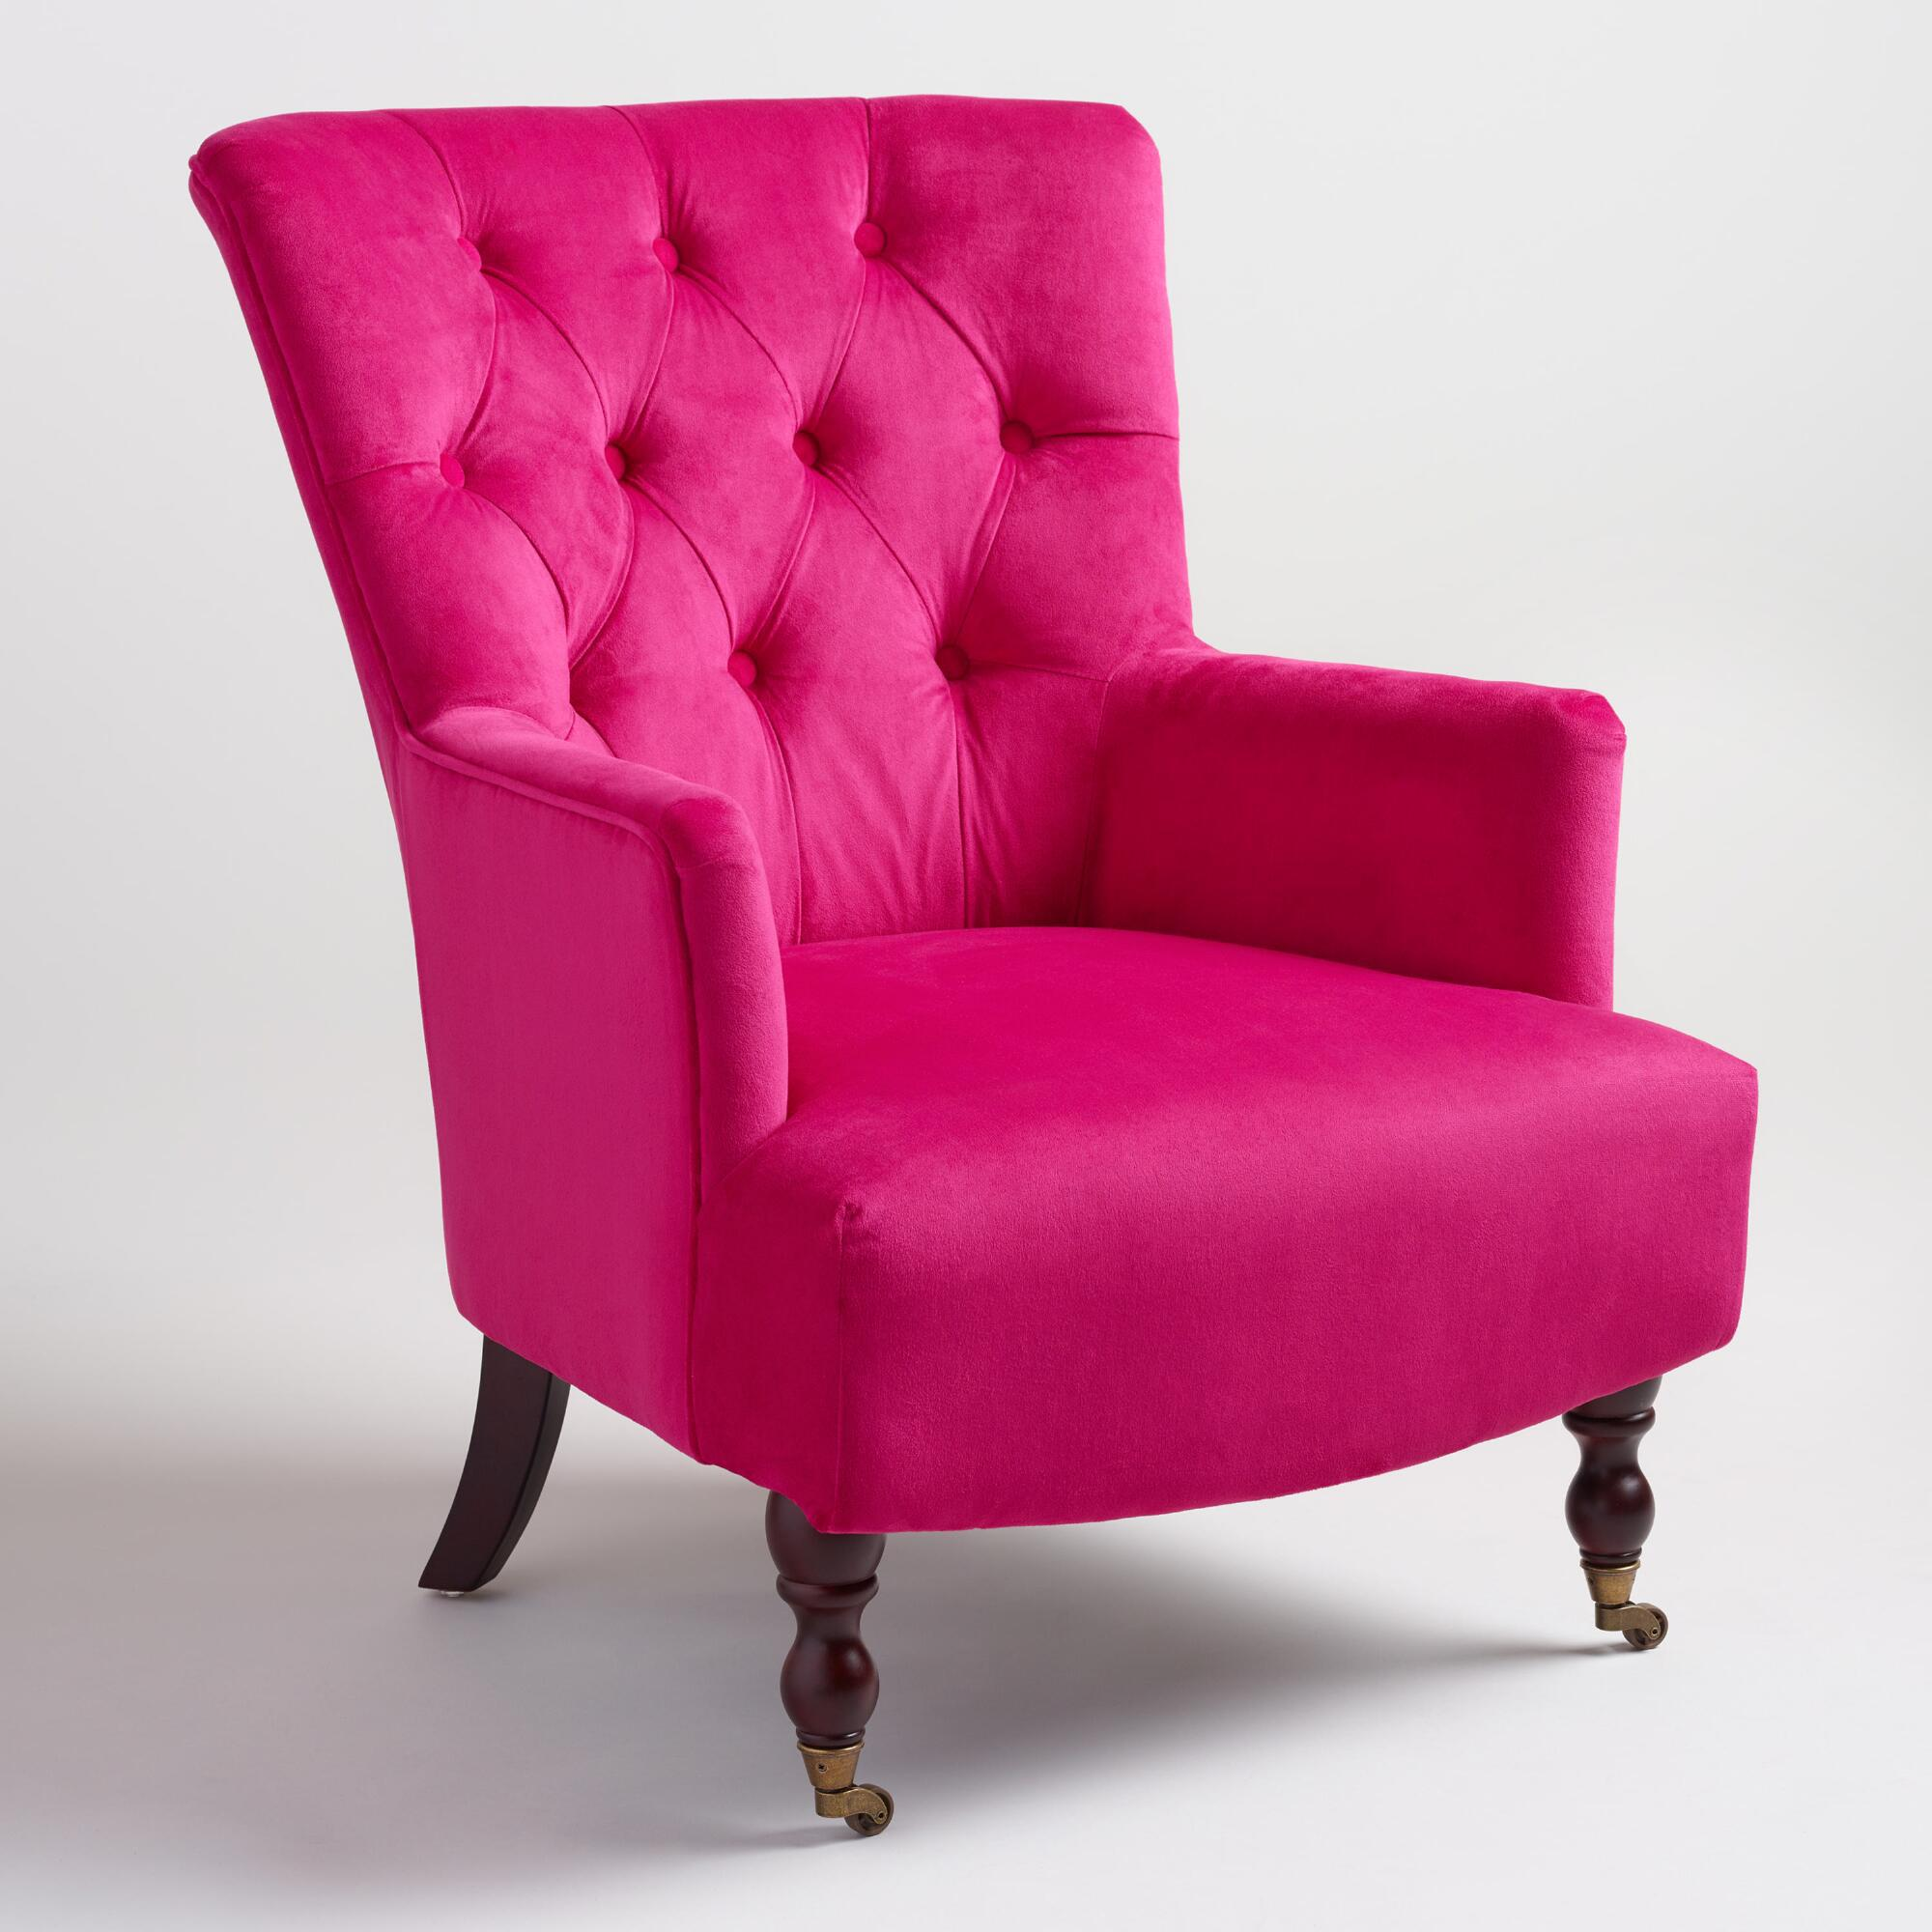chair: (140, 88, 1845, 1872)
